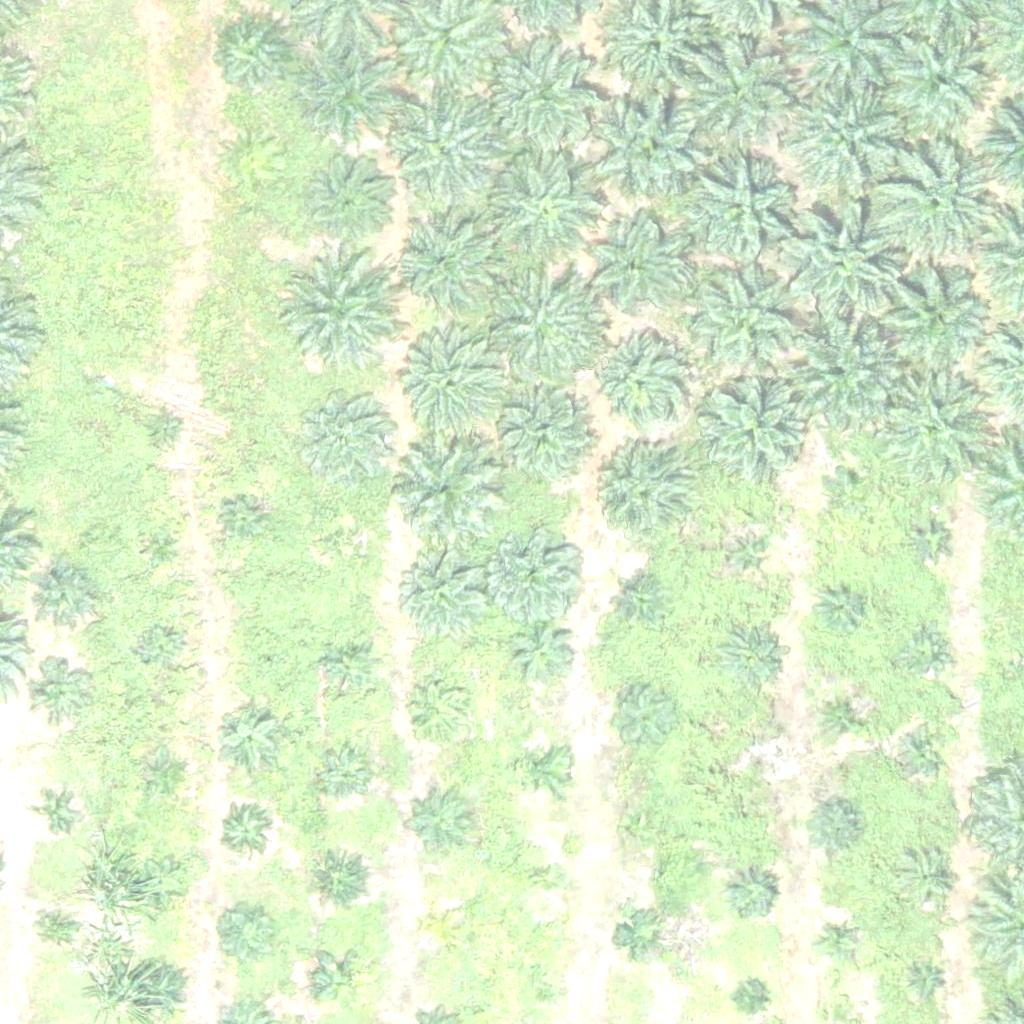Kelapa_Sawit: (273, 249, 398, 375), (683, 263, 808, 389), (784, 72, 909, 198), (779, 207, 904, 333), (779, 322, 904, 448), (880, 16, 1005, 142), (876, 137, 1001, 263), (866, 250, 991, 376), (485, 264, 610, 389), (384, 432, 497, 545), (488, 37, 601, 150), (488, 150, 601, 263), (586, 88, 699, 201), (700, 378, 813, 491), (680, 39, 792, 153), (294, 39, 406, 152), (389, 95, 501, 208), (391, 328, 503, 441), (682, 152, 794, 265), (879, 378, 991, 491), (294, 388, 394, 489), (397, 216, 497, 317), (495, 388, 595, 489), (585, 216, 685, 317), (587, 333, 687, 434), (585, 446, 685, 547), (490, 523, 590, 624), (306, 153, 393, 241), (403, 556, 490, 644), (206, 898, 281, 974), (215, 18, 290, 94), (604, 679, 679, 754), (25, 661, 88, 724), (35, 563, 98, 626), (409, 791, 472, 854), (308, 846, 371, 909), (318, 636, 381, 699), (802, 796, 865, 859), (215, 705, 277, 768), (720, 627, 782, 690), (511, 618, 573, 681), (409, 681, 471, 744), (901, 853, 951, 904), (517, 741, 567, 792), (724, 866, 774, 917), (817, 688, 867, 739), (140, 860, 190, 911), (314, 955, 364, 1005), (222, 807, 272, 857), (316, 748, 366, 798), (815, 579, 865, 629), (616, 913, 666, 963), (901, 726, 951, 776), (904, 516, 954, 566), (900, 627, 950, 677), (720, 531, 770, 581), (823, 462, 873, 512), (812, 916, 862, 966), (624, 809, 662, 847), (140, 627, 178, 665), (144, 529, 182, 567), (145, 410, 183, 448), (147, 753, 185, 791), (622, 585, 660, 622), (330, 523, 368, 560), (226, 503, 263, 541), (38, 798, 75, 835), (42, 908, 79, 945), (747, 742, 772, 767), (913, 971, 938, 996), (736, 985, 761, 1010), (535, 978, 560, 1003), (535, 862, 560, 887), (430, 916, 455, 941), (257, 653, 282, 678)
